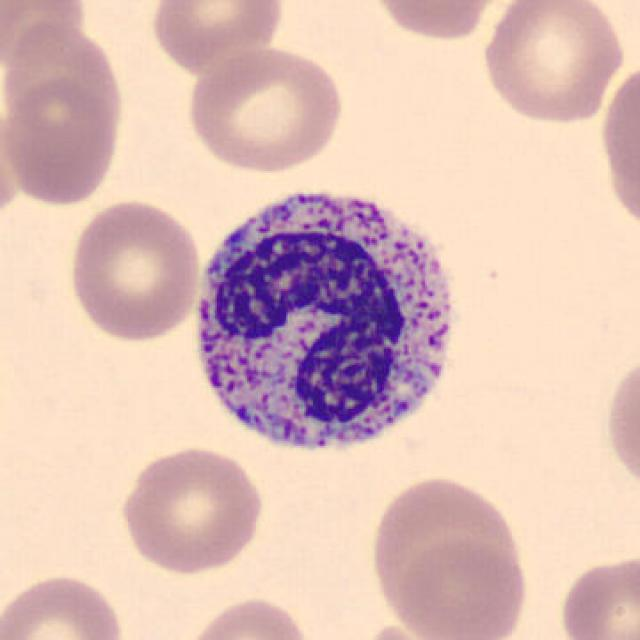Neutrophil: (181, 168, 471, 474)
RBC: (366, 471, 524, 617), (183, 42, 349, 176), (64, 196, 206, 344), (115, 441, 268, 576), (476, 0, 630, 127), (0, 74, 126, 210), (391, 532, 532, 640), (146, 0, 290, 76), (0, 569, 130, 640), (595, 54, 640, 238), (555, 550, 638, 640), (363, 0, 519, 44), (0, 0, 89, 76), (182, 592, 316, 640), (601, 348, 640, 502), (0, 95, 21, 234), (343, 622, 464, 640)
